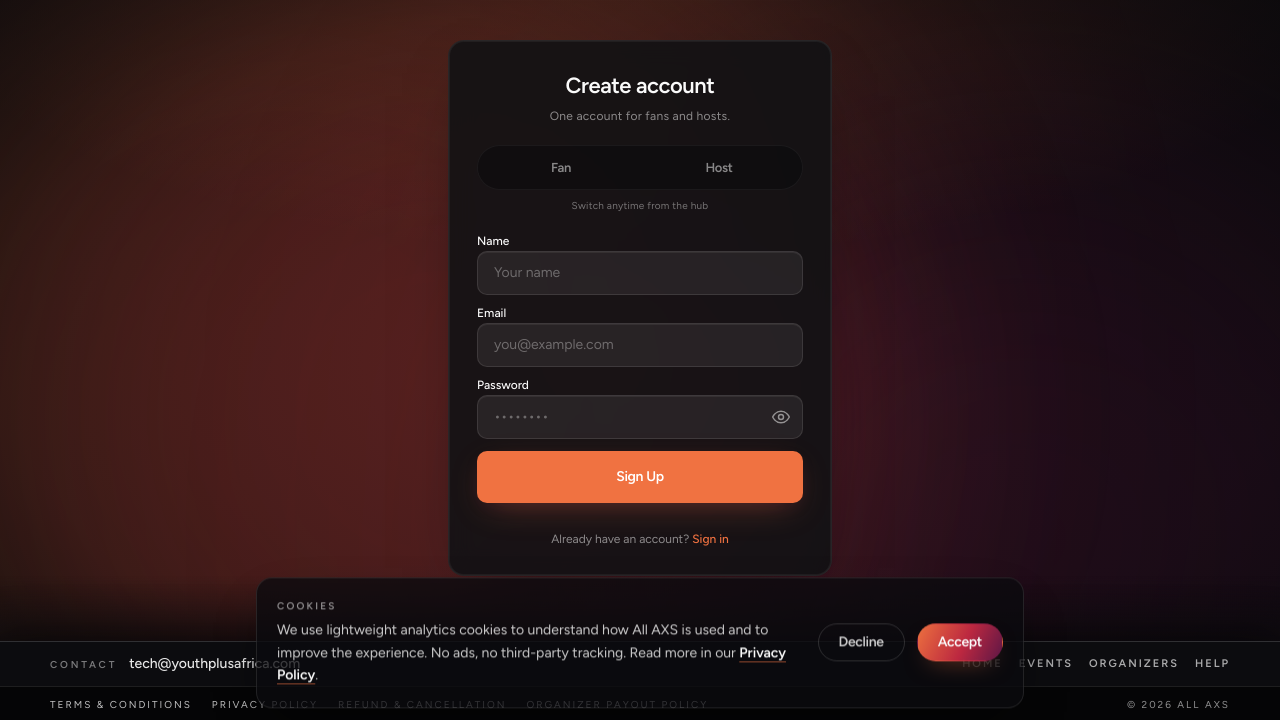
it: Register Page › should show validation error for invalid email format
Type "John Doe" into the field named "name" at (640, 273), box x1=477 y1=251 x2=803 y2=295
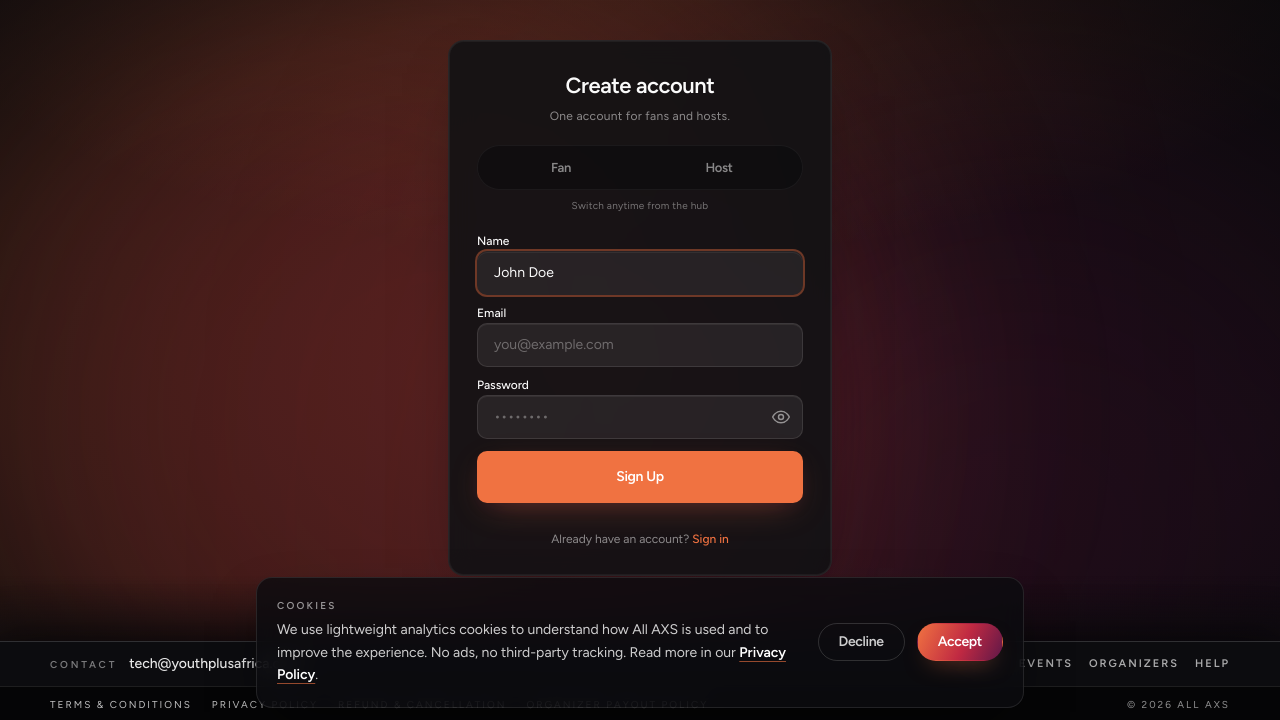
Type "invalid-email" into the field labelled "Email" at (640, 345), box x1=477 y1=323 x2=803 y2=367
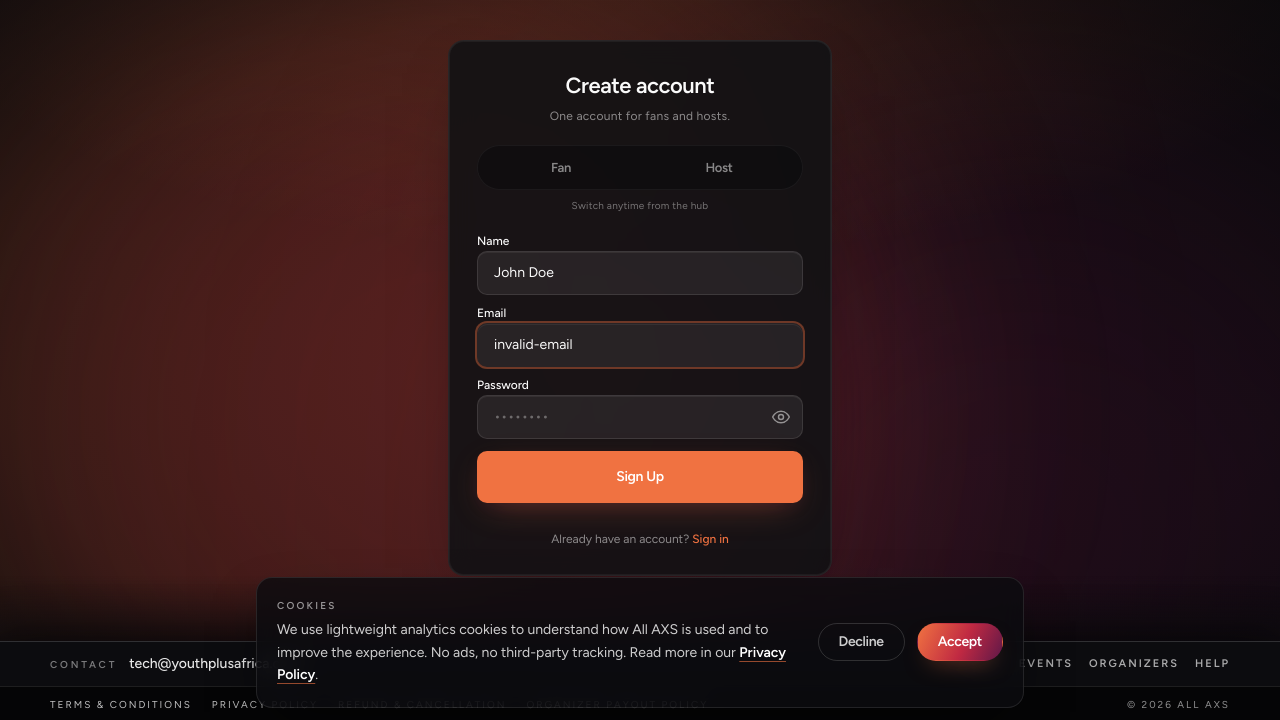
Leave the field labelled "Email", box x1=477 y1=323 x2=803 y2=367
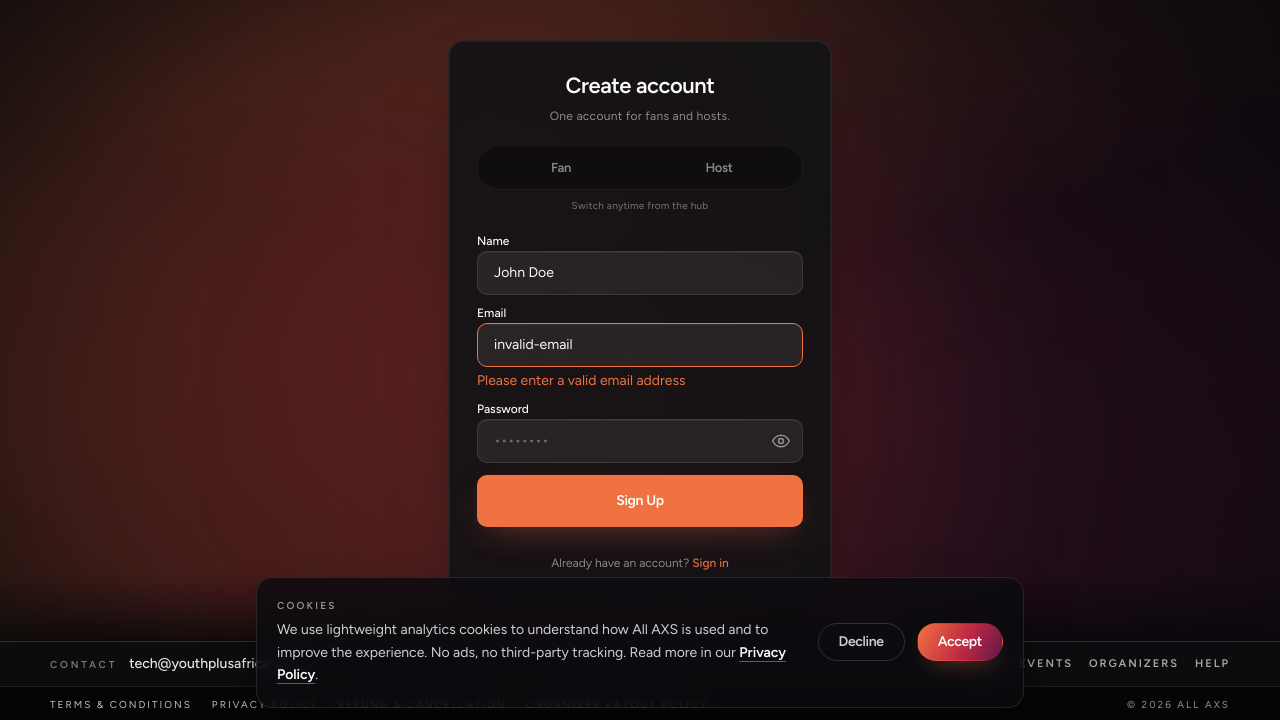
Now the text "Please enter a valid email address" is shown, box x1=477 y1=372 x2=685 y2=389
